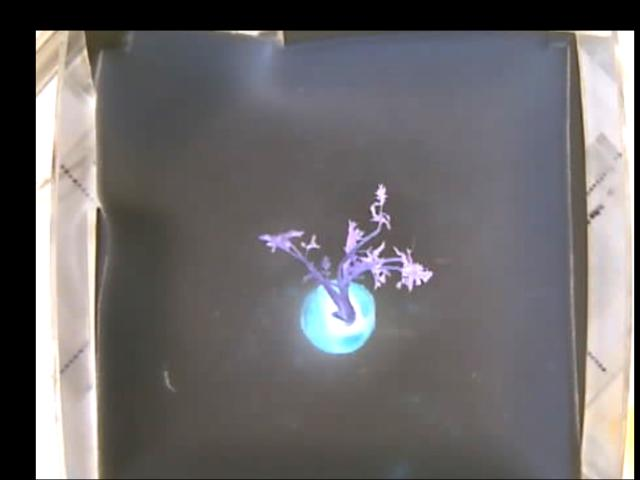Carrot: (255, 181, 433, 354)
